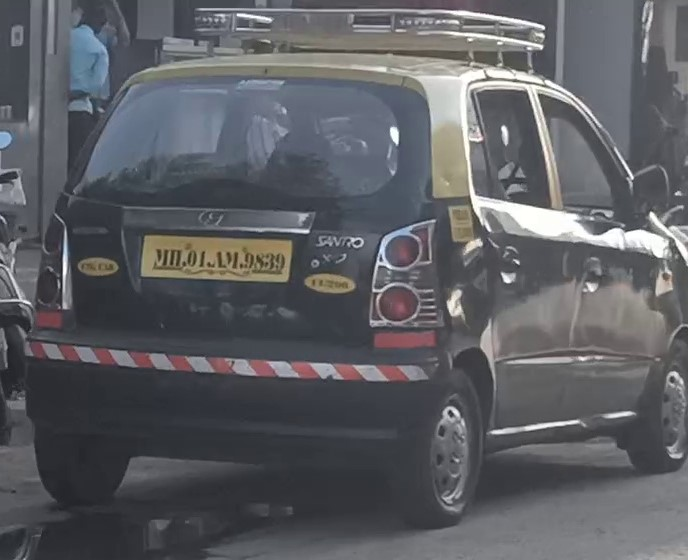MH01AM9839: (140, 233, 292, 283)
